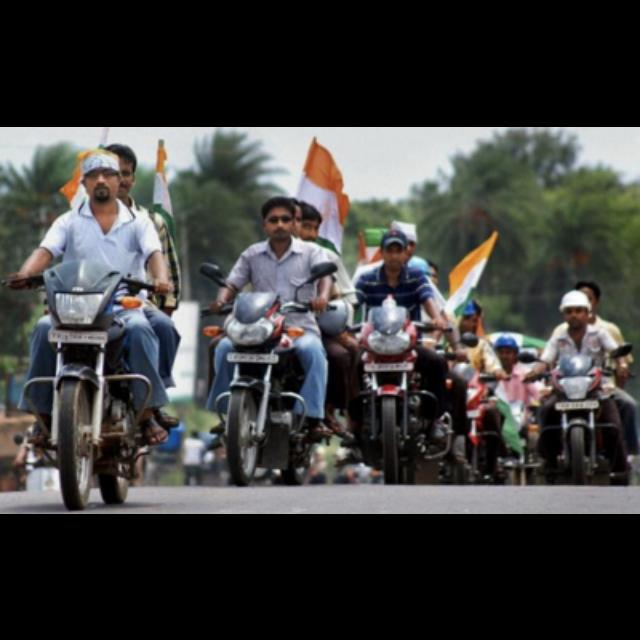With Helmet: (558, 289, 598, 331)
Without Helmet: (71, 148, 125, 208), (258, 193, 298, 239), (375, 224, 413, 272)
